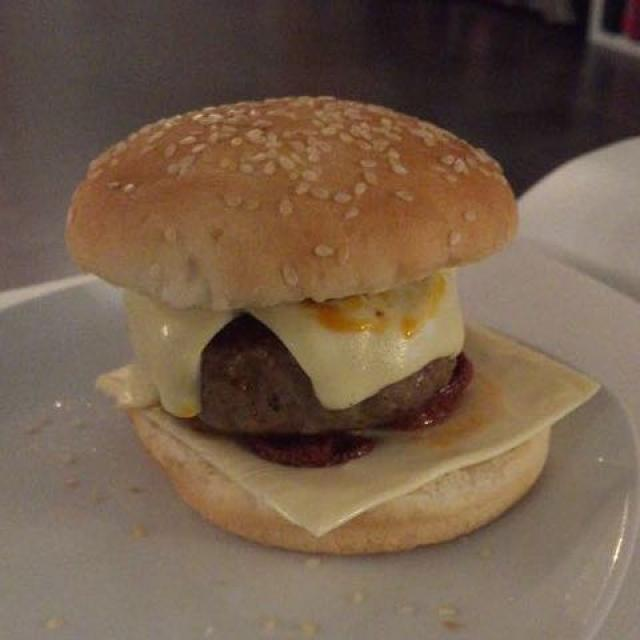bun: (170, 139, 447, 245)
cheese: (109, 270, 612, 547)
hamburger: (67, 102, 577, 531)
